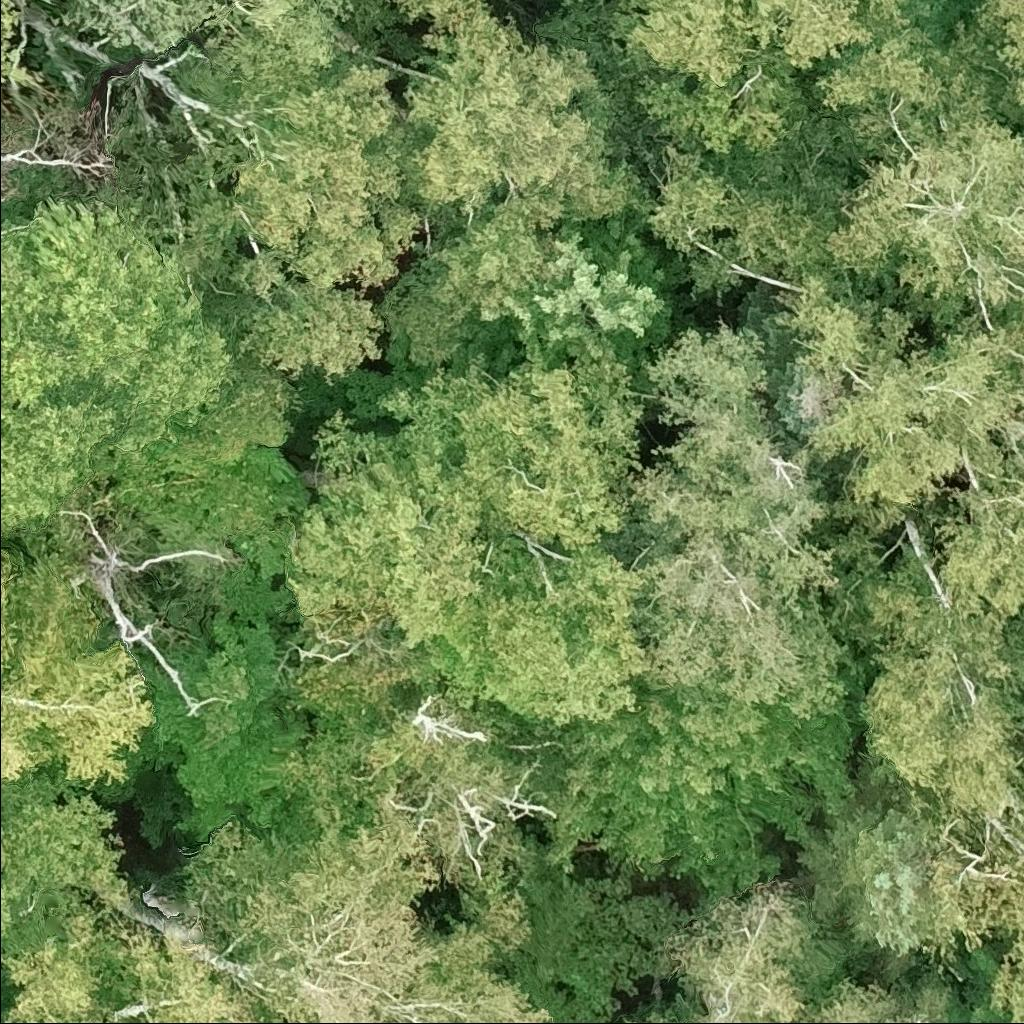crown: (284, 340, 653, 725), (362, 0, 652, 380), (0, 194, 298, 544), (613, 314, 853, 722), (168, 51, 425, 386), (190, 790, 552, 1023), (805, 24, 1023, 368), (540, 678, 857, 900), (773, 267, 1023, 538), (605, 0, 929, 189), (859, 547, 1023, 818), (0, 546, 157, 796), (643, 136, 862, 304), (349, 701, 537, 890), (876, 782, 1023, 1023), (0, 899, 277, 1023), (621, 882, 810, 1023), (794, 801, 938, 977), (0, 769, 133, 951), (728, 260, 852, 440), (112, 0, 355, 87), (930, 453, 1023, 636), (946, 0, 1023, 130), (798, 977, 953, 1023), (389, 0, 477, 27), (0, 0, 21, 81), (1006, 615, 1023, 673), (1011, 680, 1023, 758), (0, 970, 7, 1014)
